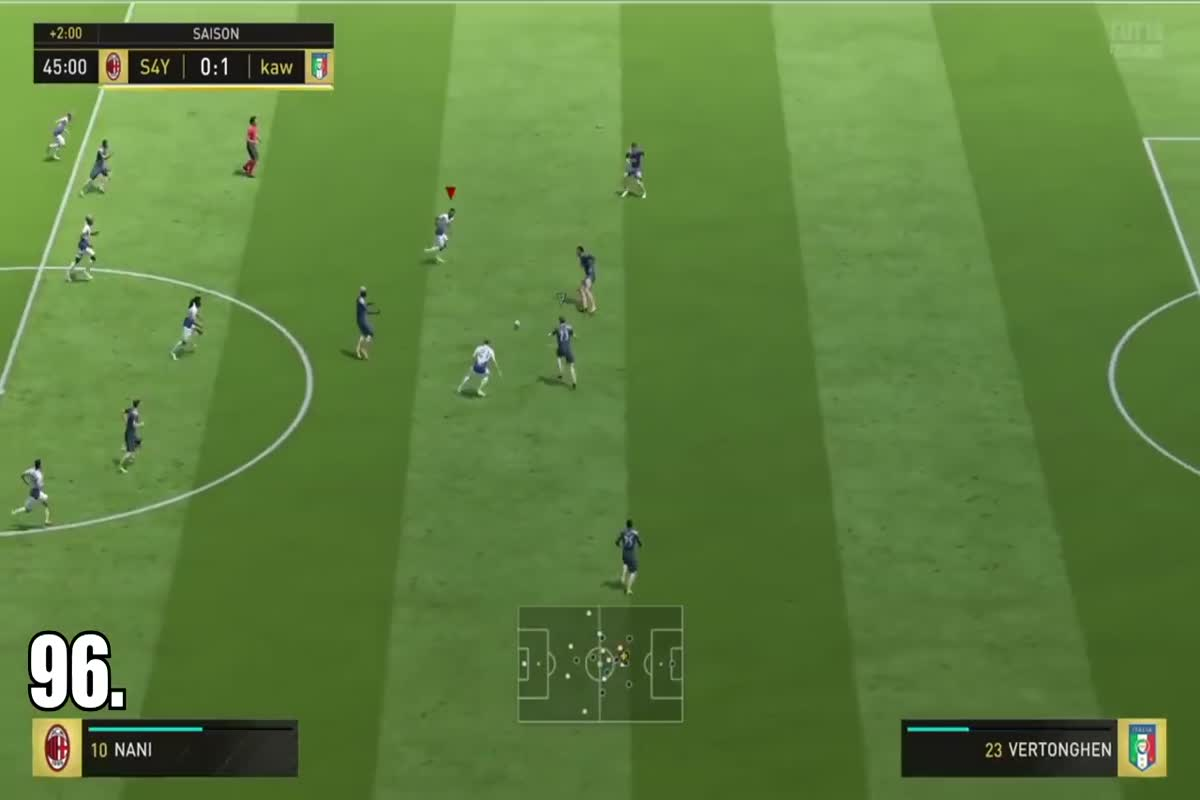ball: (504, 314, 533, 336)
